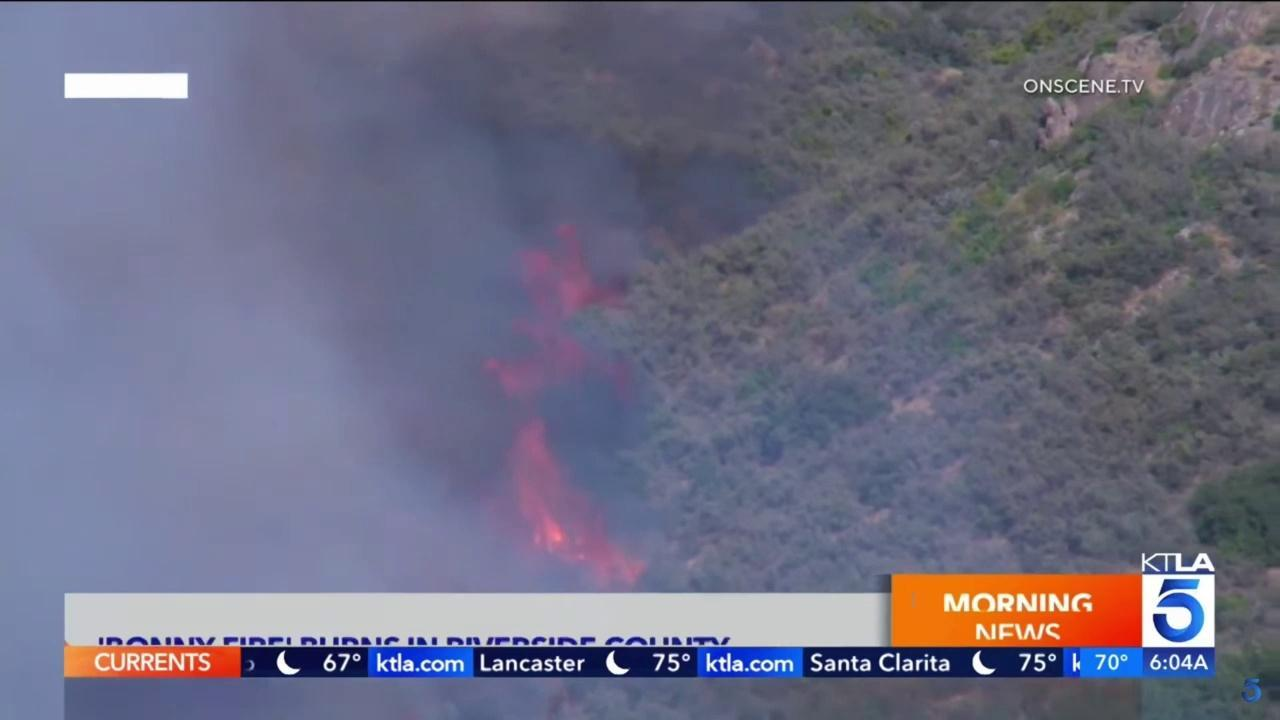fire: (482, 413, 649, 589), (483, 218, 637, 408)
smoke: (0, 2, 801, 720)
